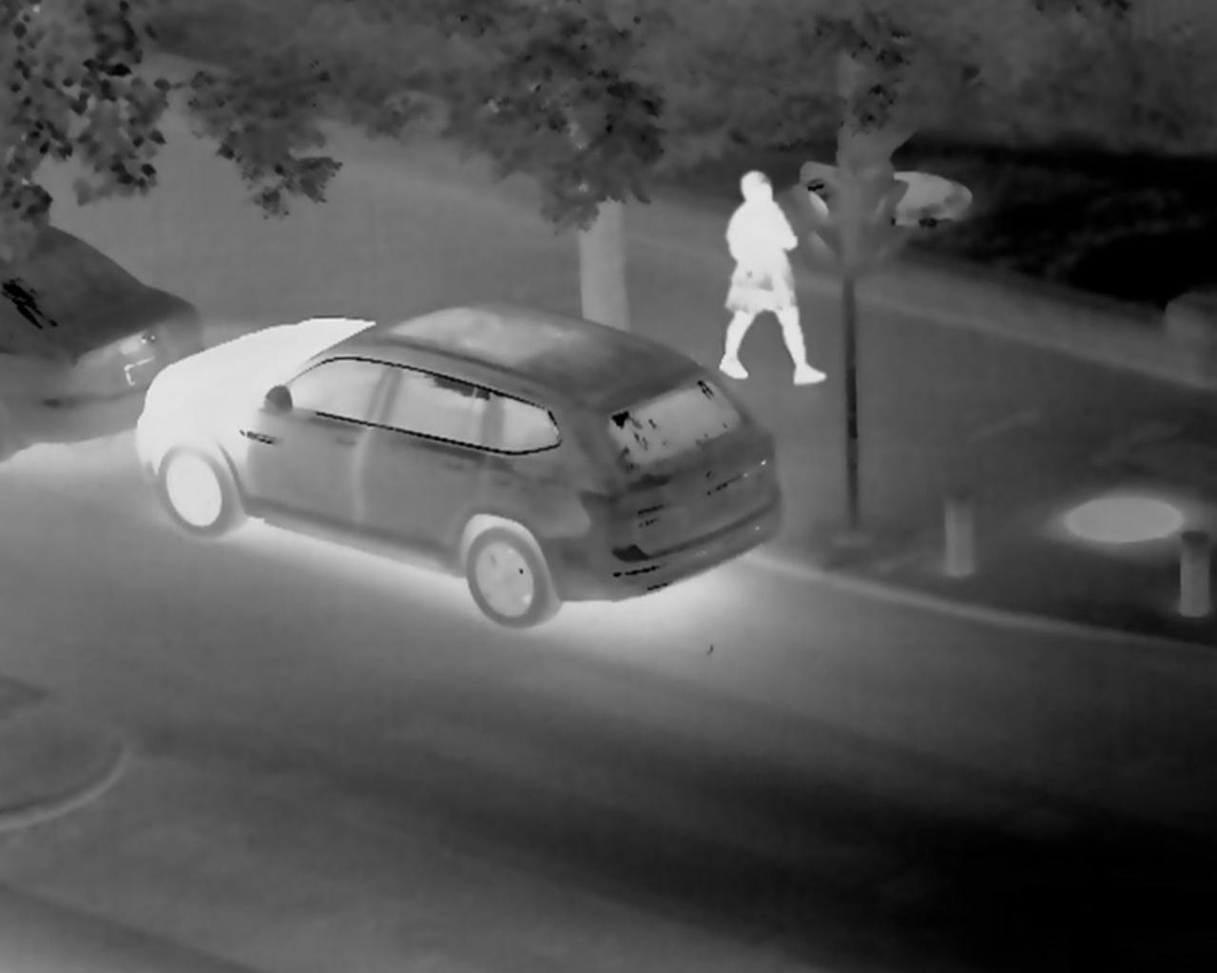person: (696, 165, 838, 398)
